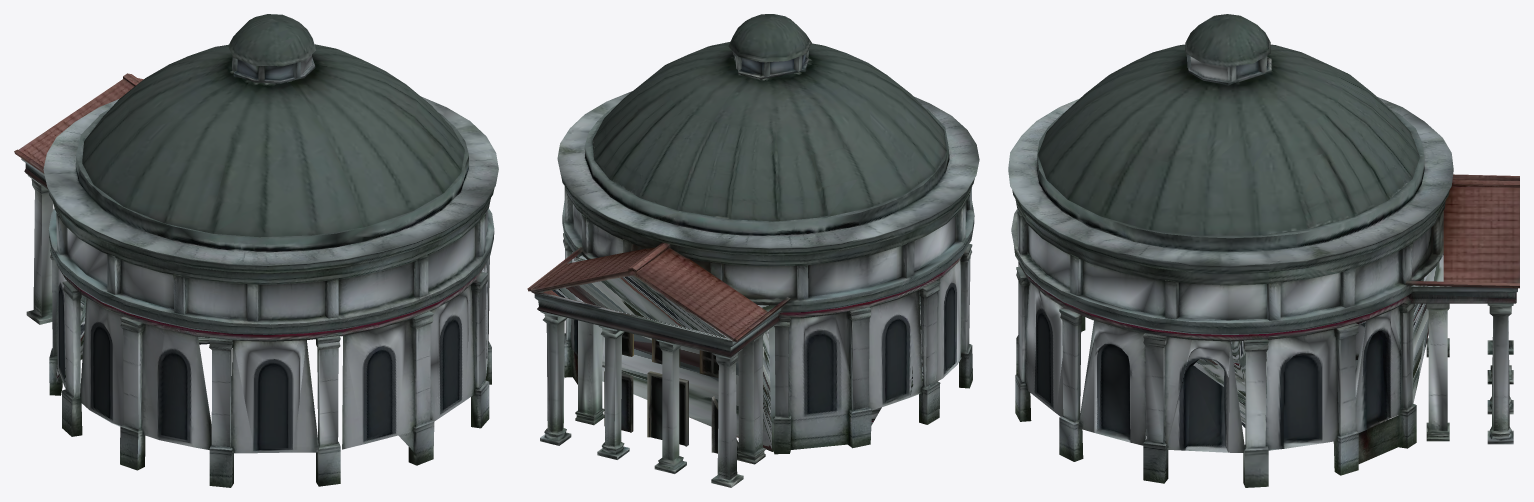
Rendered from rotunda.glb.
The picture shows the model from 3 angles, left to right: view 1: azimuth 30°, elevation 25°; view 2: azimuth 150°, elevation 25°; view 3: azimuth 270°, elevation 25°; orthographic projection. The views are drawn at different scales.
Visible parts, largest first — view 1: model; view 2: model; view 3: model.
Part boxes in pixels (x1=…): model: x1=14, y1=14, x2=498, y2=487; model: x1=527, y1=14, x2=979, y2=487; model: x1=1008, y1=14, x2=1519, y2=487.
Bounding box in the file's own units: 1.1 × 1 × 1.23.
1 material, 1 textured.
